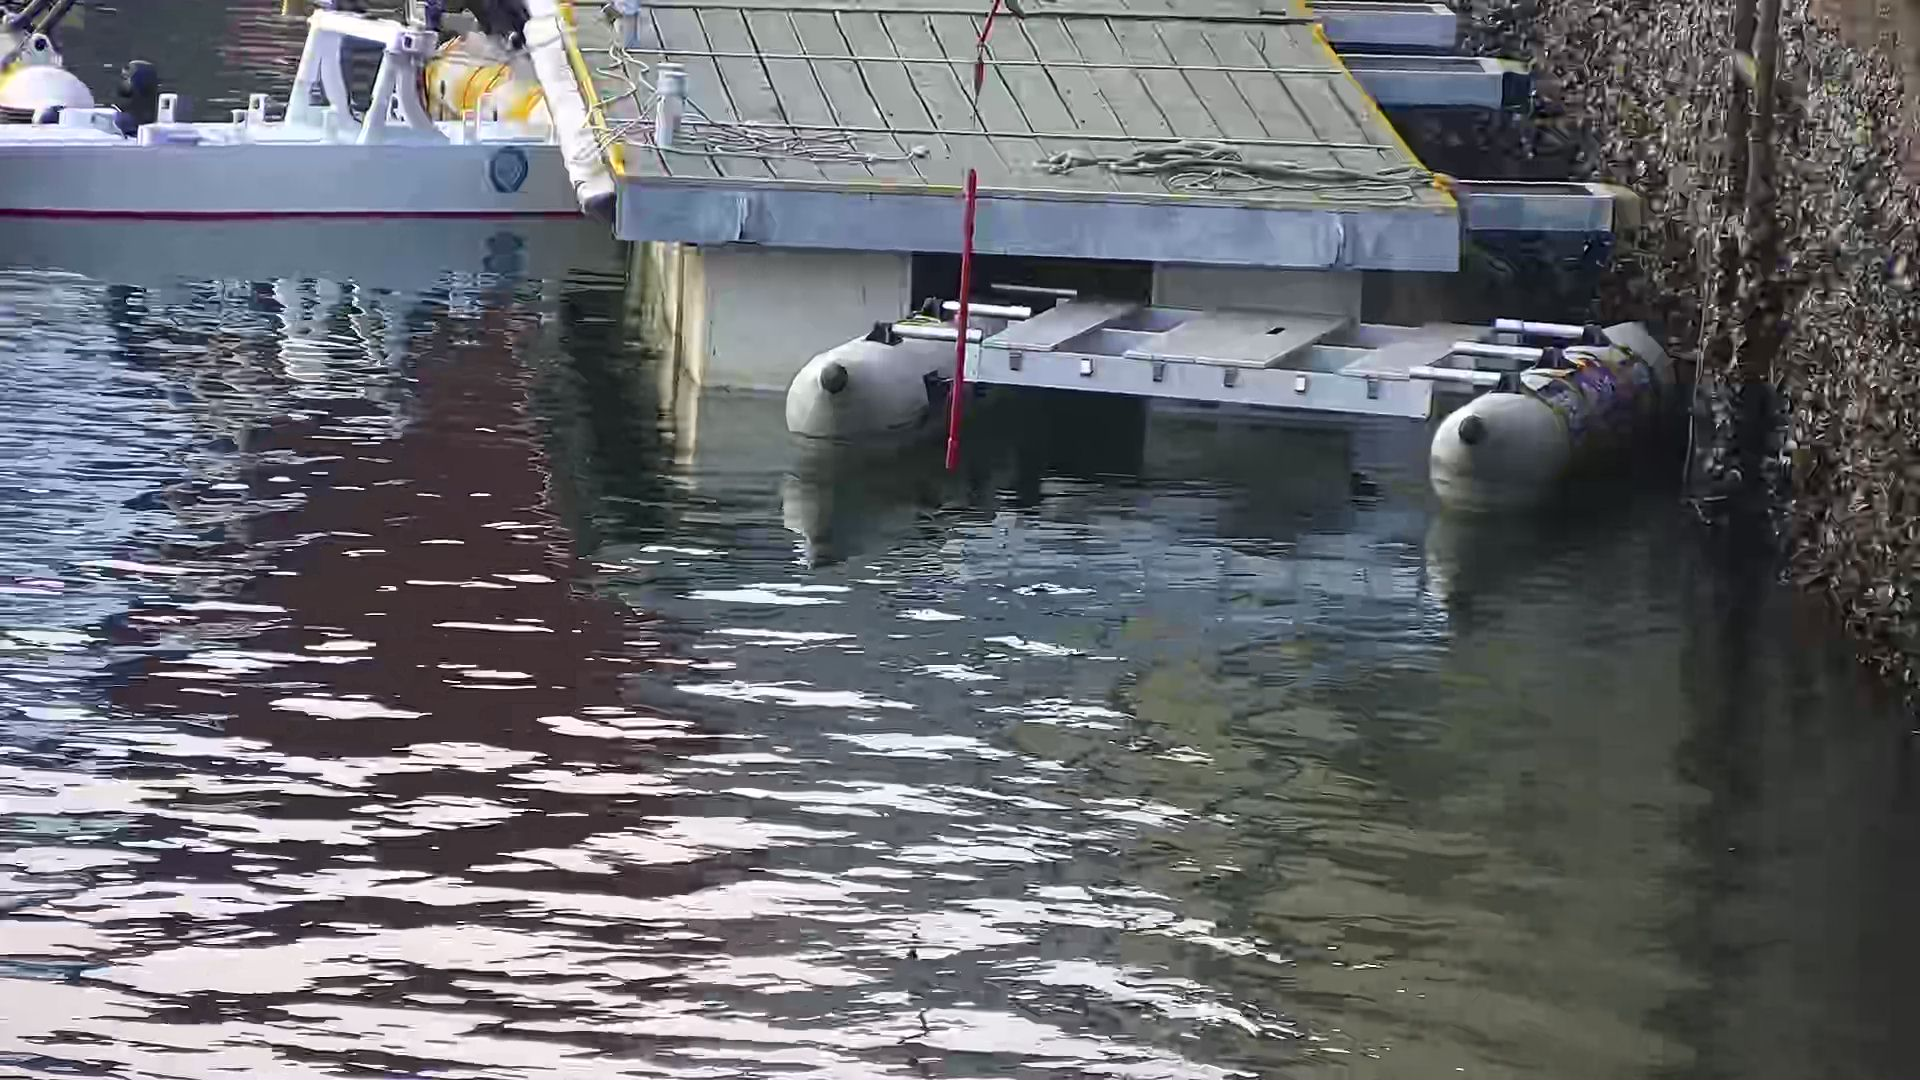boat: (535, 7, 1478, 398), (781, 280, 1677, 517), (1, 55, 601, 231)
